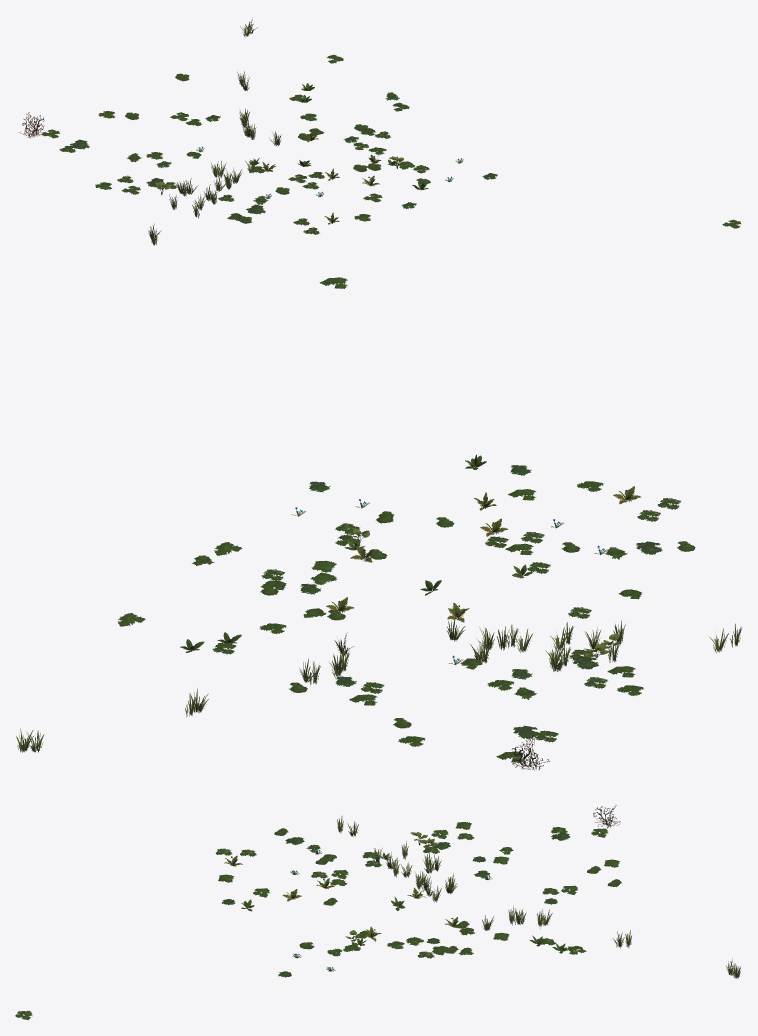
File: Bushes.fbx
3 renders of one model, top to bottom at view 1: azimuth 30°, elevation 25°; view 2: azimuth 150°, elevation 25°; view 3: azimuth 270°, elevation 25°, orthographic. The views are drawn at different scales.
Size of the model in its own units: 5505 by 526 by 7678.
2 materials, 2 textured.
